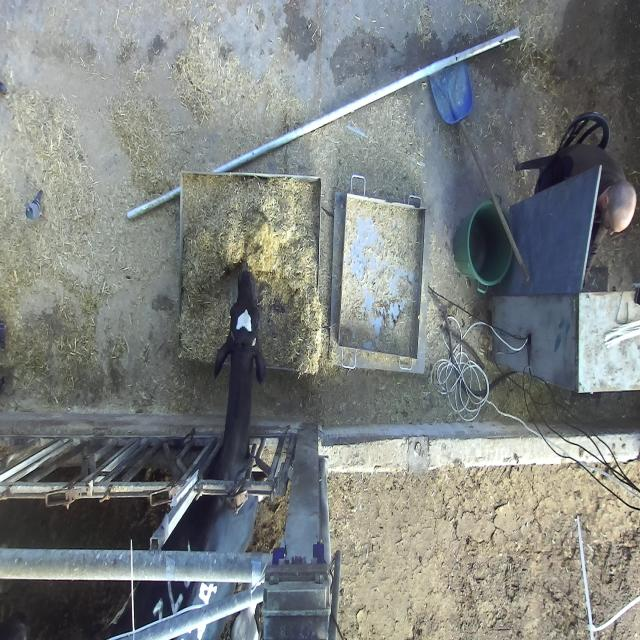cow: (212, 267, 266, 383)
